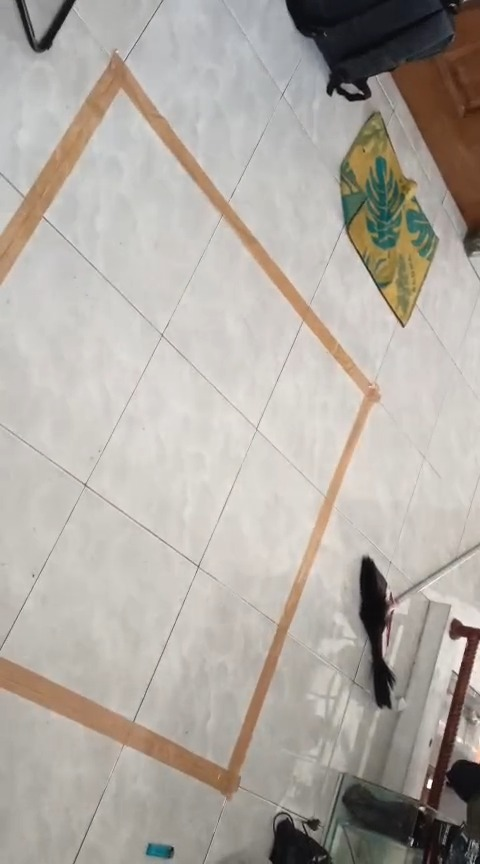floor marking: (0, 54, 379, 797)
